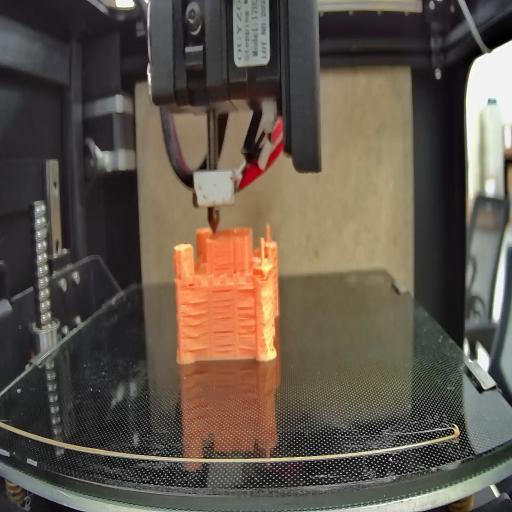cracks: (210, 291, 235, 354), (181, 300, 209, 351), (236, 303, 257, 349), (234, 285, 256, 297), (211, 260, 231, 272), (182, 280, 198, 288)
